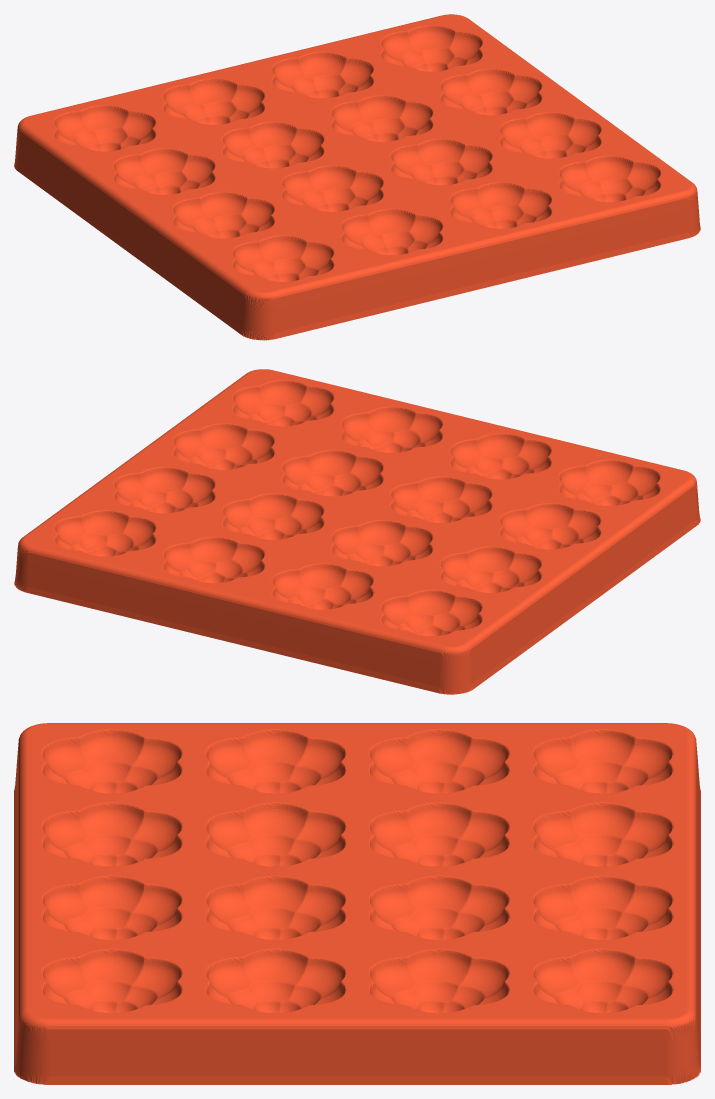
The model's file is mold.glb.
3 views of the same model, one above another, from view 1: azimuth 30°, elevation 25°; view 2: azimuth 150°, elevation 25°; view 3: azimuth 270°, elevation 25° (orthographic). The views are drawn at different scales.
Visible parts, largest first — view 1: geometry_0; view 2: geometry_0; view 3: geometry_0.
Boxes of the visible parts, x1,y1,x2,y2 form: geometry_0: [14, 14, 700, 340]; geometry_0: [14, 369, 700, 694]; geometry_0: [14, 723, 700, 1084].
Bounding box in the file's own units: 0.1856 × 0.017 × 0.1757.
